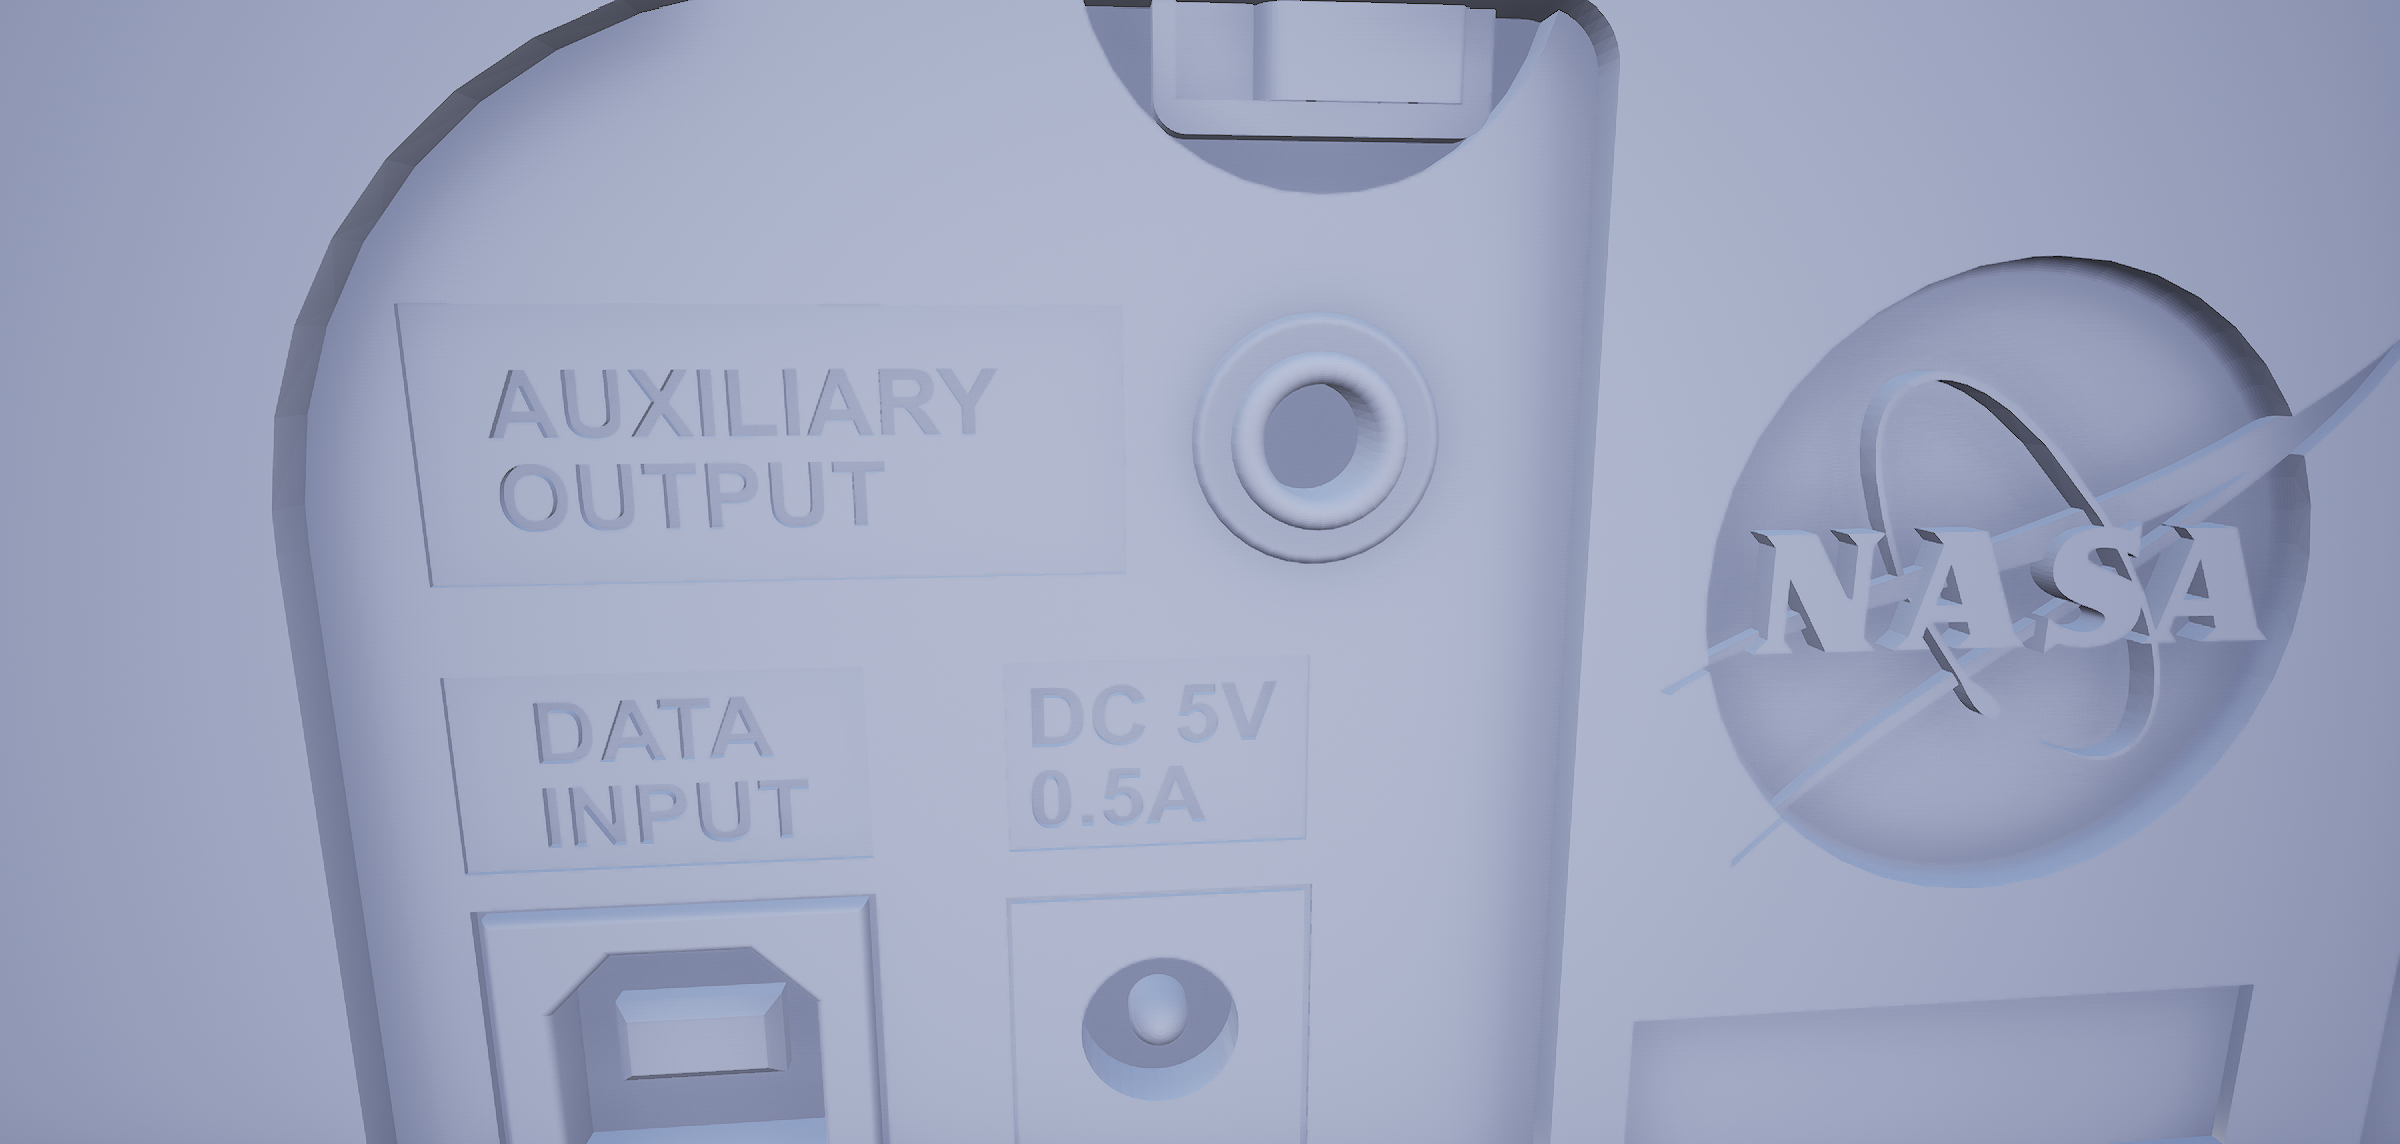aux: (1179, 289, 1446, 590)
dc: (1062, 945, 1254, 1118)
usb: (533, 940, 840, 1144)
